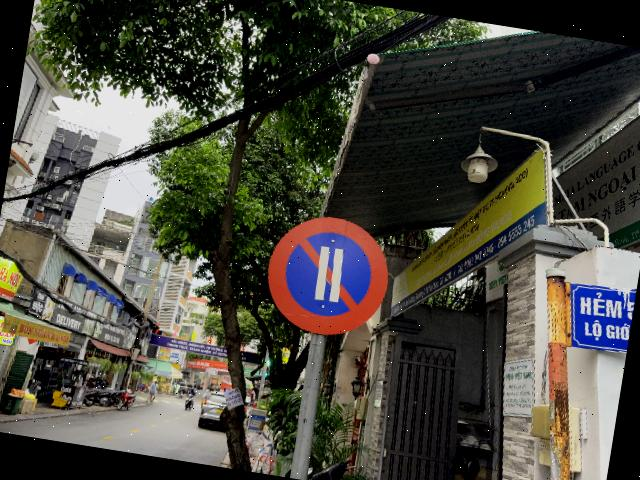cam-do-xe-ngay-chan: (258, 207, 396, 344)
